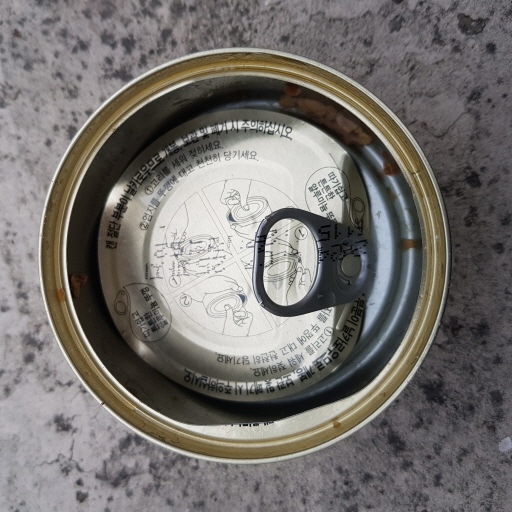Metal_1: (39, 46, 453, 463)
